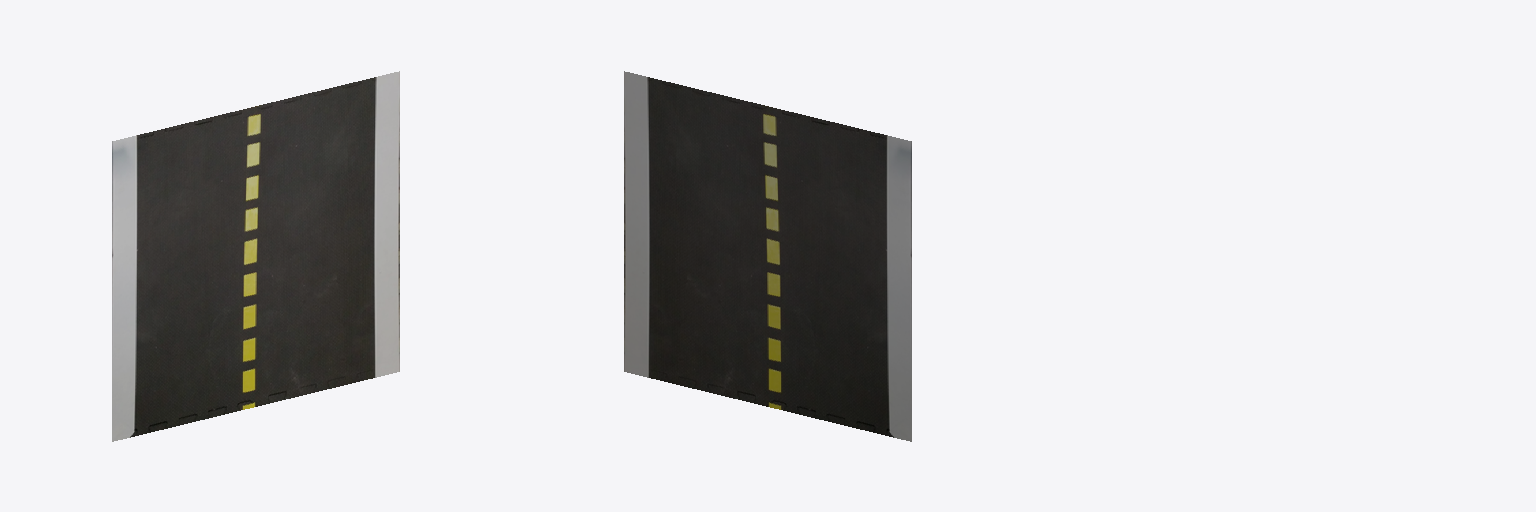
The picture shows the model from 3 angles: view 1: azimuth 30°, elevation 25°; view 2: azimuth 150°, elevation 25°; view 3: azimuth 270°, elevation 25°; orthographic projection.
Visible parts, largest first — view 1: Plane; view 2: Plane; view 3: none.
Boxes of the visible parts, x1,y1,x2,y2 form: Plane: [112, 71, 399, 441]; Plane: [624, 71, 911, 441].
Size of the model in its own units: 2 by 2 by 0.
Materials: 1 (1 with a texture image).